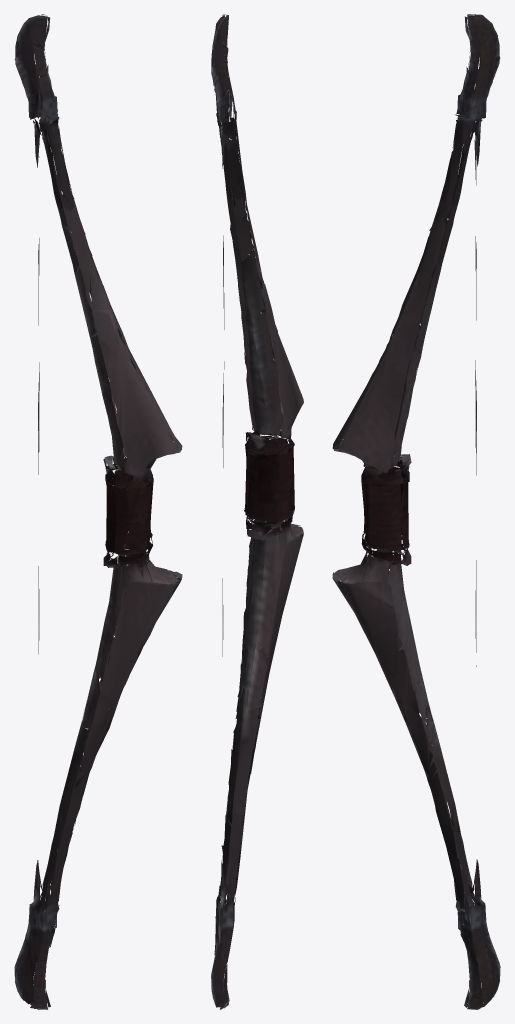
Rendered from longbow.glb.
3 views of the same model, side by side, from view 1: azimuth 90°, elevation 25°; view 2: azimuth 150°, elevation 25°; view 3: azimuth 270°, elevation 25° (orthographic).
Parts seen in each view (by area): view 1: Longbow3; view 2: Longbow3; view 3: Longbow3.
Part boxes in pixels (bbox=[...]): Longbow3: bbox=[14, 14, 182, 1009]; Longbow3: bbox=[211, 14, 303, 1009]; Longbow3: bbox=[332, 14, 500, 1009].
Size of the model in its own units: 0.0778 by 1.55 by 0.2374.
1 material, 1 textured.
